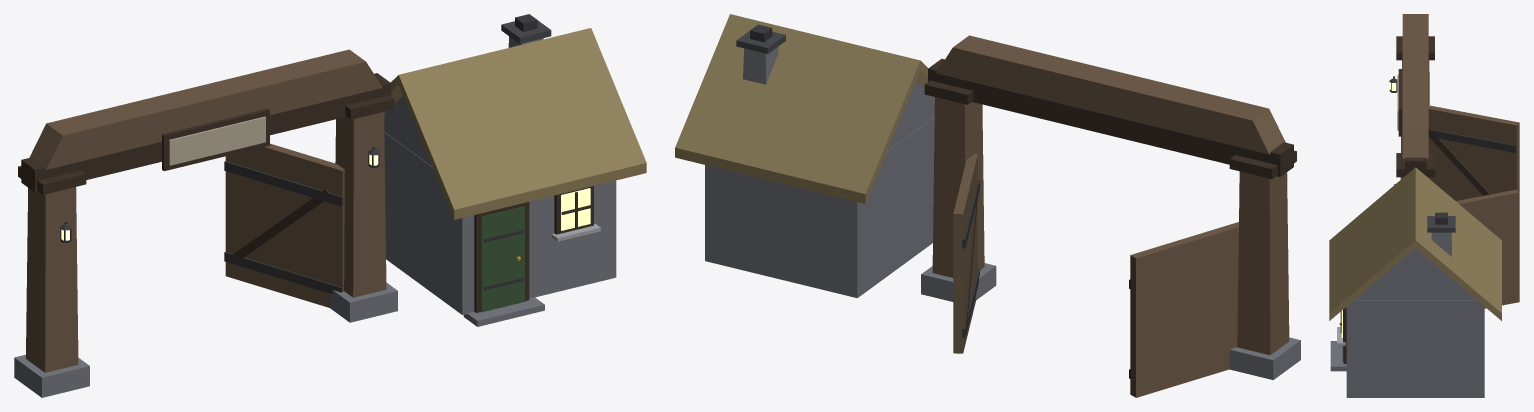
File: bree_gate_watch.glb
The picture shows the model from 3 angles, left to right: view 1: azimuth 30°, elevation 25°; view 2: azimuth 150°, elevation 25°; view 3: azimuth 270°, elevation 25°; orthographic projection. The views are drawn at different scales.
Parts seen in each view (by area): view 1: bree_gate_watch; view 2: bree_gate_watch; view 3: bree_gate_watch.
Part boxes in pixels (x1=…): bree_gate_watch: x1=14, y1=14, x2=646, y2=397; bree_gate_watch: x1=675, y1=14, x2=1300, y2=397; bree_gate_watch: x1=1329, y1=14, x2=1519, y2=397.
Size of what is drawn, in the model's own units: 11.7 by 5 by 4.41.
